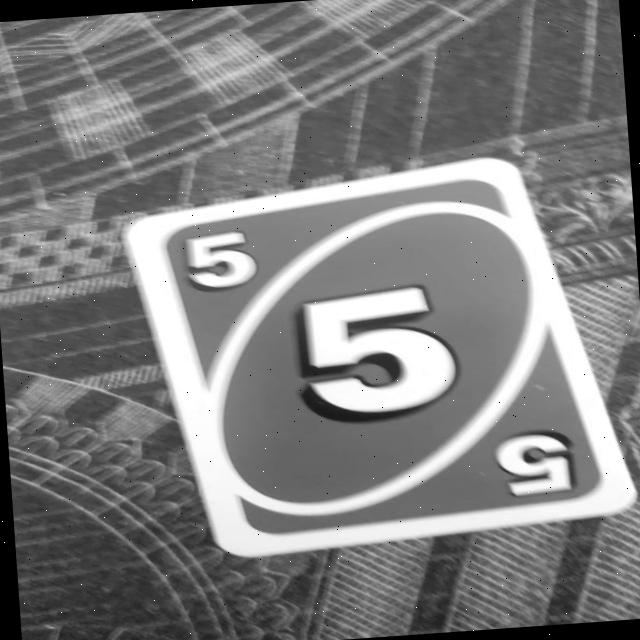card_5: (117, 146, 639, 564)
